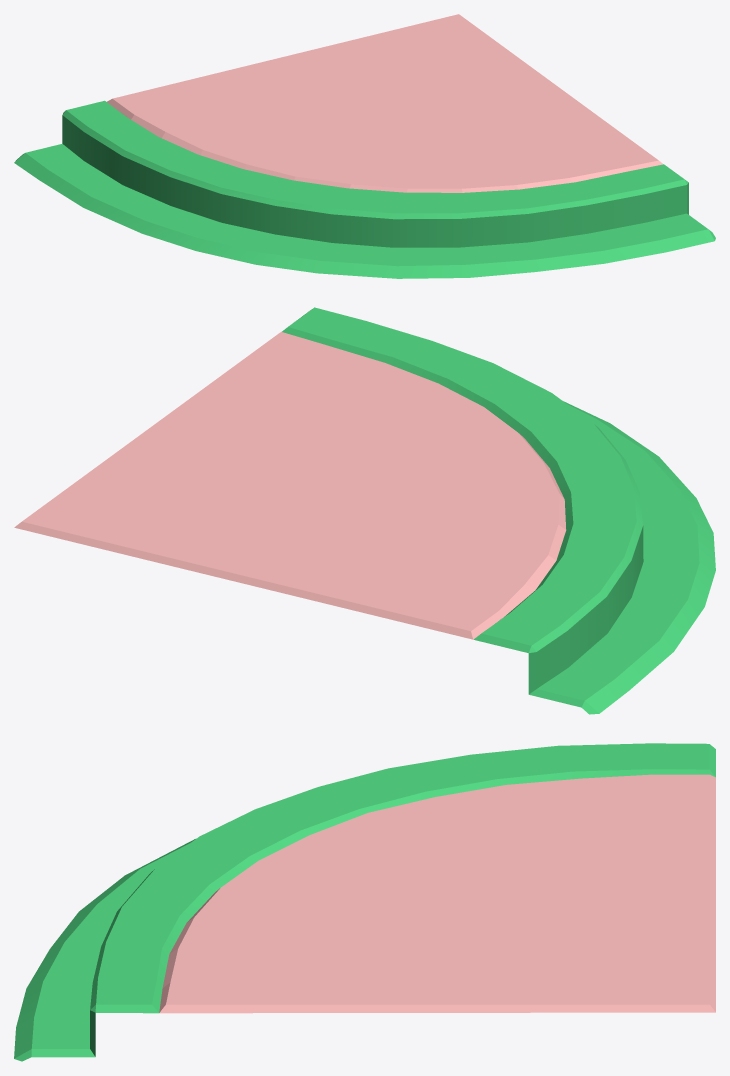
File: mesh_Paving_Outer90Single_v1.3.fbx
The picture shows the model from 3 angles, top to bottom: view 1: azimuth 30°, elevation 25°; view 2: azimuth 150°, elevation 25°; view 3: azimuth 270°, elevation 25°; orthographic projection. The views are drawn at different scales.
Visible parts, largest first — view 1: mesh_Paving_Outer90Single; view 2: mesh_Paving_Outer90Single; view 3: mesh_Paving_Outer90Single.
Part boxes in pixels (bbox=[...]): mesh_Paving_Outer90Single: bbox=[14, 14, 715, 278]; mesh_Paving_Outer90Single: bbox=[14, 307, 715, 714]; mesh_Paving_Outer90Single: bbox=[14, 743, 715, 1061].
Bounding box in the file's own units: 127 × 10.77 × 126.
